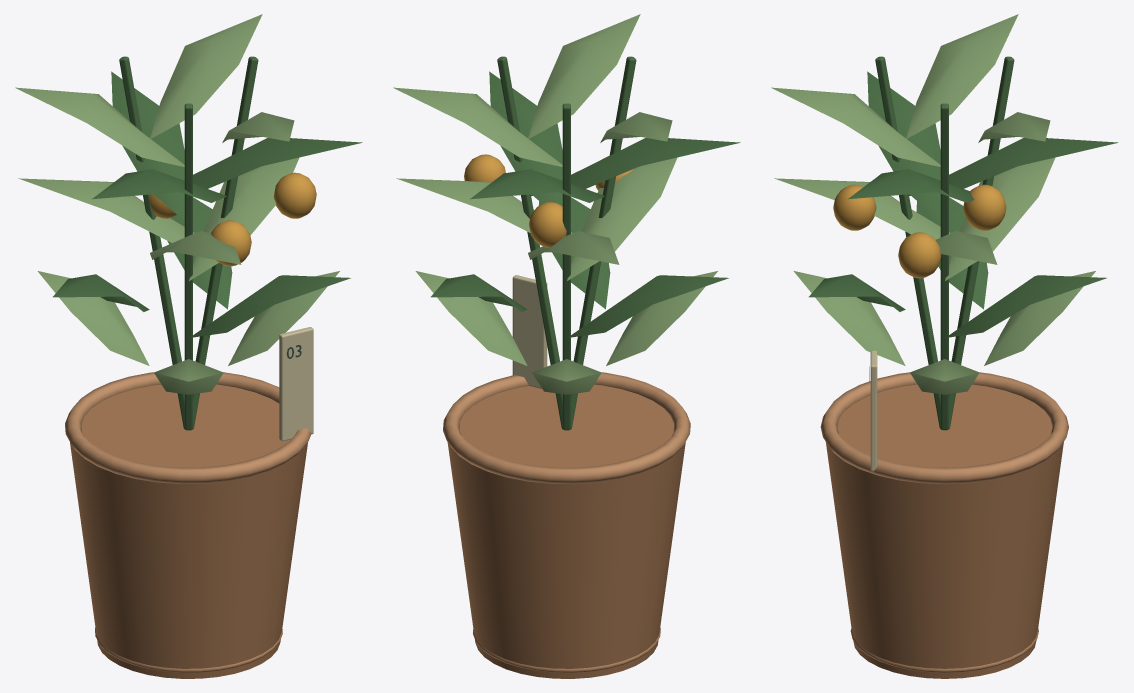
File: plant-c.glb
The picture shows the model from 3 angles, left to right: view 1: azimuth 30°, elevation 25°; view 2: azimuth 150°, elevation 25°; view 3: azimuth 270°, elevation 25°; orthographic projection.
Visible parts, largest first — view 1: plant-c_Plant_Root_2_GH_clay.002, plant-c_Plant_Root_2_GH_leaf.002, plant-c_Plant_Root_2_GH_leaf-dark.002, plant-c_Plant_Root_2_GH_clay-rim.002, plant-c_Plant_Root_2_GH_ivory-dark.002, plant-c_Plant_Root_2_GH_amber.002; view 2: plant-c_Plant_Root_2_GH_clay.002, plant-c_Plant_Root_2_GH_leaf.002, plant-c_Plant_Root_2_GH_leaf-dark.002, plant-c_Plant_Root_2_GH_clay-rim.002, plant-c_Plant_Root_2_GH_ivory-dark.002, plant-c_Plant_Root_2_GH_amber.002; view 3: plant-c_Plant_Root_2_GH_clay.002, plant-c_Plant_Root_2_GH_leaf.002, plant-c_Plant_Root_2_GH_leaf-dark.002, plant-c_Plant_Root_2_GH_clay-rim.002, plant-c_Plant_Root_2_GH_amber.002, plant-c_Plant_Root_2_GH_ivory-dark.002.
Boxes of the visible parts, <box> form: plant-c_Plant_Root_2_GH_clay.002: <box>70,384,307,678</box>; plant-c_Plant_Root_2_GH_leaf.002: <box>15,14,339,394</box>; plant-c_Plant_Root_2_GH_leaf-dark.002: <box>53,56,362,430</box>; plant-c_Plant_Root_2_GH_clay-rim.002: <box>65,372,311,672</box>; plant-c_Plant_Root_2_GH_ivory-dark.002: <box>279,327,313,441</box>; plant-c_Plant_Root_2_GH_amber.002: <box>149,172,316,266</box>; plant-c_Plant_Root_2_GH_clay.002: <box>447,384,685,678</box>; plant-c_Plant_Root_2_GH_leaf.002: <box>393,14,717,394</box>; plant-c_Plant_Root_2_GH_leaf-dark.002: <box>431,56,740,430</box>; plant-c_Plant_Root_2_GH_clay-rim.002: <box>443,372,690,672</box>; plant-c_Plant_Root_2_GH_ivory-dark.002: <box>512,275,547,388</box>; plant-c_Plant_Root_2_GH_amber.002: <box>464,154,633,247</box>; plant-c_Plant_Root_2_GH_clay.002: <box>826,384,1063,678</box>; plant-c_Plant_Root_2_GH_leaf.002: <box>771,14,1095,394</box>; plant-c_Plant_Root_2_GH_leaf-dark.002: <box>809,56,1118,430</box>; plant-c_Plant_Root_2_GH_clay-rim.002: <box>820,372,1068,672</box>; plant-c_Plant_Root_2_GH_amber.002: <box>833,184,1006,278</box>; plant-c_Plant_Root_2_GH_ivory-dark.002: <box>870,350,877,471</box>.
Size of the model in its own units: 0.4176 by 0.7505 by 0.4187.
